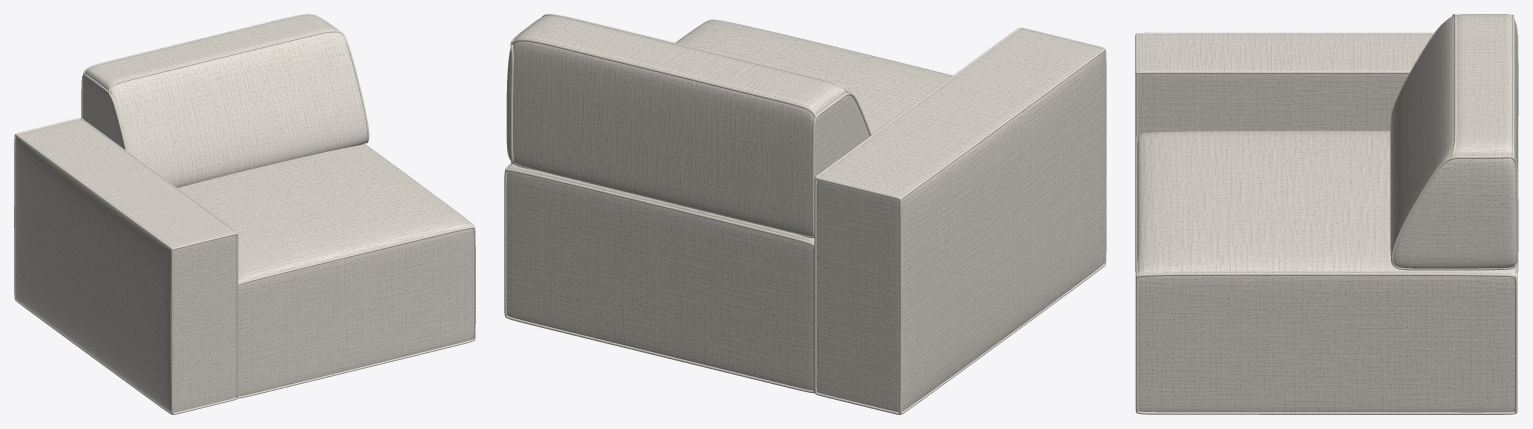
File: right1_1_5_seater_arm_120_alpine_ivory.glb
3 renders of one model, left to right at view 1: azimuth 30°, elevation 25°; view 2: azimuth 150°, elevation 25°; view 3: azimuth 270°, elevation 25°, orthographic. The views are drawn at different scales.
Parts seen in each view (by area): view 1: Box093, Box088, Box097, Shape048, Shape043, Shape039; view 2: Box088, Box093, Box097, Shape048, Shape039, Shape043; view 3: Box093, Box097, Box088, Shape043, Shape039, Shape048.
Boxes of the visible parts, x1=… form: Box093: x1=178, y1=143, x2=473, y2=396; Box088: x1=15, y1=119, x2=236, y2=412; Box097: x1=82, y1=14, x2=367, y2=187; Shape048: x1=14, y1=118, x2=238, y2=414; Shape043: x1=238, y1=187, x2=475, y2=398; Shape039: x1=81, y1=14, x2=369, y2=151; Box088: x1=816, y1=29, x2=1105, y2=412; Box093: x1=506, y1=19, x2=952, y2=390; Box097: x1=506, y1=15, x2=869, y2=236; Shape048: x1=814, y1=27, x2=1106, y2=414; Shape039: x1=510, y1=14, x2=871, y2=238; Shape043: x1=504, y1=20, x2=814, y2=393; Box093: x1=1137, y1=130, x2=1515, y2=412; Box097: x1=1390, y1=14, x2=1517, y2=268; Box088: x1=1138, y1=33, x2=1433, y2=134; Shape043: x1=1135, y1=135, x2=1517, y2=414; Shape039: x1=1391, y1=14, x2=1518, y2=270; Shape048: x1=1135, y1=32, x2=1518, y2=272.
Bounding box in the file's own units: 1.2 × 0.8369 × 1.07.
Materials: 2 (2 with a texture image).
